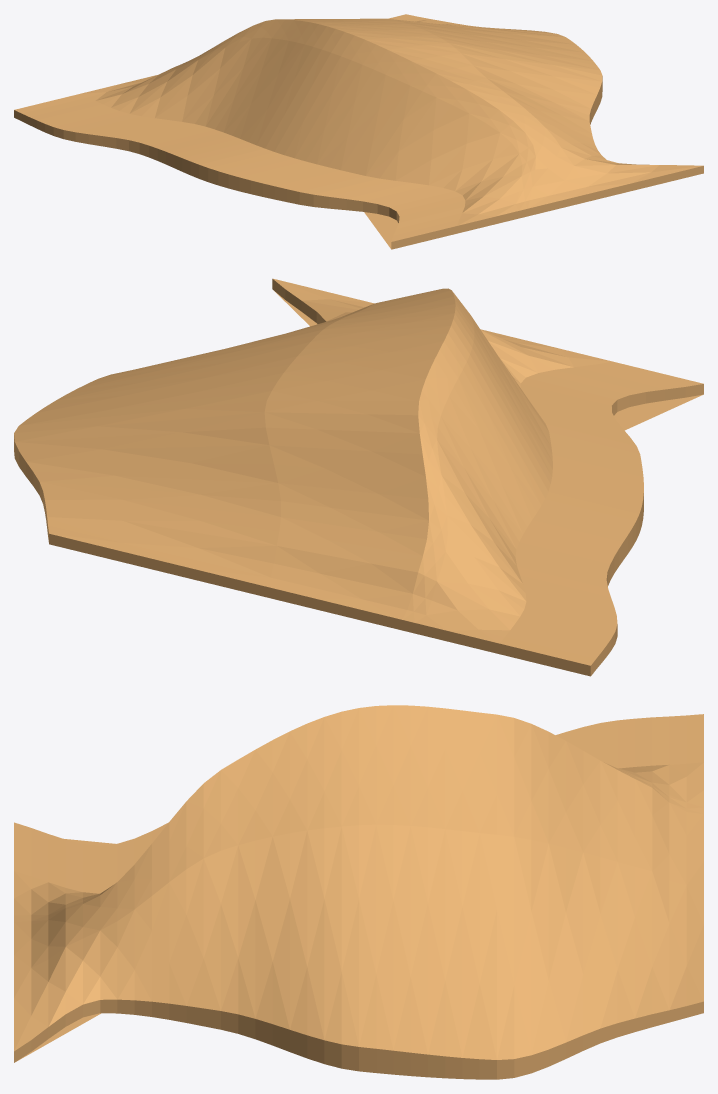
Rendered from route-dune.glb.
3 renders of one model, top to bottom at view 1: azimuth 30°, elevation 25°; view 2: azimuth 150°, elevation 25°; view 3: azimuth 270°, elevation 25°, orthographic. The views are drawn at different scales.
Parts seen in each view (by area): view 1: accepted-central-dune; view 2: accepted-central-dune; view 3: accepted-central-dune.
Boxes of the visible parts, bbox=[...] form: accepted-central-dune: bbox=[14, 14, 703, 249]; accepted-central-dune: bbox=[14, 278, 703, 676]; accepted-central-dune: bbox=[14, 705, 703, 1079].
Bounding box in the file's own units: 42.5 × 9.85 × 35.
